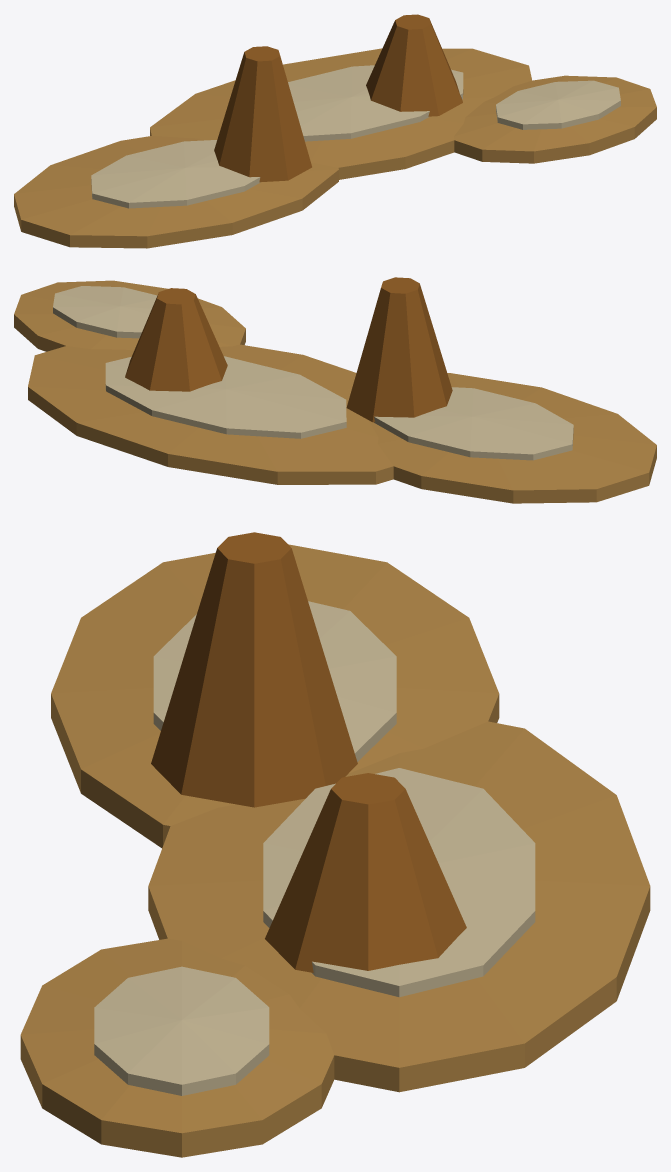
File: sulphur_crust_b.obj
3 views of the same model, one above another, from view 1: azimuth 30°, elevation 25°; view 2: azimuth 150°, elevation 25°; view 3: azimuth 270°, elevation 25° (orthographic). The views are drawn at different scales.
Parts seen in each view (by area): view 1: plate_0, plate_1, plate_2, vent_0, rim_0, vent_1, rim_1, rim_2; view 2: plate_1, plate_0, rim_1, vent_0, rim_0, vent_1, plate_2, rim_2; view 3: plate_1, plate_0, vent_0, plate_2, vent_1, rim_1, rim_2, rim_0.
Part boxes in pixels (<box>): plate_0: <box>14,136,338,248</box>; plate_1: <box>150,48,532,179</box>; plate_2: <box>454,75,656,163</box>; vent_0: <box>214,46,311,182</box>; rim_0: <box>91,140,260,208</box>; vent_1: <box>366,14,462,116</box>; rim_1: <box>288,65,463,141</box>; rim_2: <box>496,80,620,129</box>; plate_1: <box>28,344,393,484</box>; plate_0: <box>368,373,656,503</box>; rim_1: <box>105,356,346,438</box>; vent_0: <box>346,277,452,422</box>; rim_0: <box>374,387,573,460</box>; vent_1: <box>125,288,227,391</box>; plate_2: <box>14,280,245,351</box>; rim_2: <box>53,286,157,338</box>; plate_1: <box>148,721,650,1092</box>; plate_0: <box>51,544,499,848</box>; vent_0: <box>151,532,357,807</box>; plate_2: <box>20,938,334,1157</box>; vent_1: <box>265,773,466,972</box>; rim_1: <box>263,768,535,997</box>; rim_2: <box>94,966,269,1095</box>; rim_0: <box>153,601,396,761</box>.
Size of the model in its own units: 6.76 by 1.39 by 3.04.
